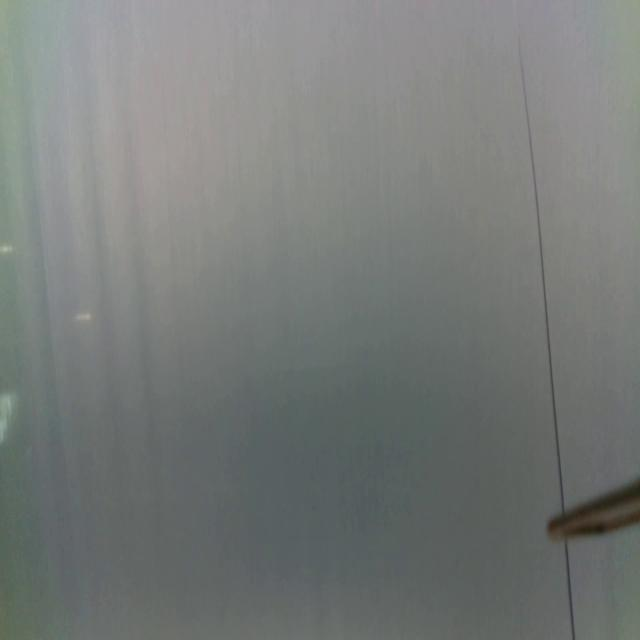crease: (518, 27, 564, 515), (564, 542, 576, 640)
